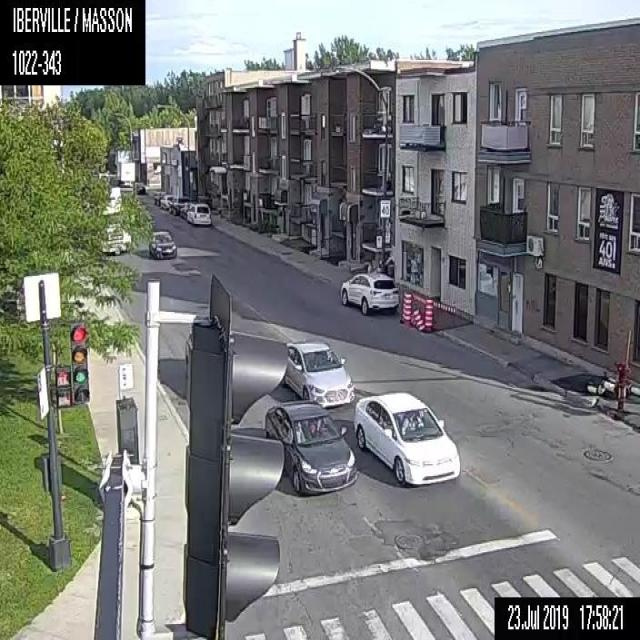construction: (549, 362, 627, 398), (430, 297, 457, 315), (400, 291, 413, 327), (423, 297, 435, 331), (412, 307, 424, 332)
vehicle: (353, 388, 460, 489), (262, 401, 358, 497), (280, 340, 354, 409), (339, 269, 398, 315), (94, 186, 132, 254), (148, 228, 176, 259), (115, 160, 134, 192), (186, 200, 211, 224), (168, 195, 188, 215), (159, 193, 174, 211), (133, 181, 146, 194), (152, 191, 162, 204)
